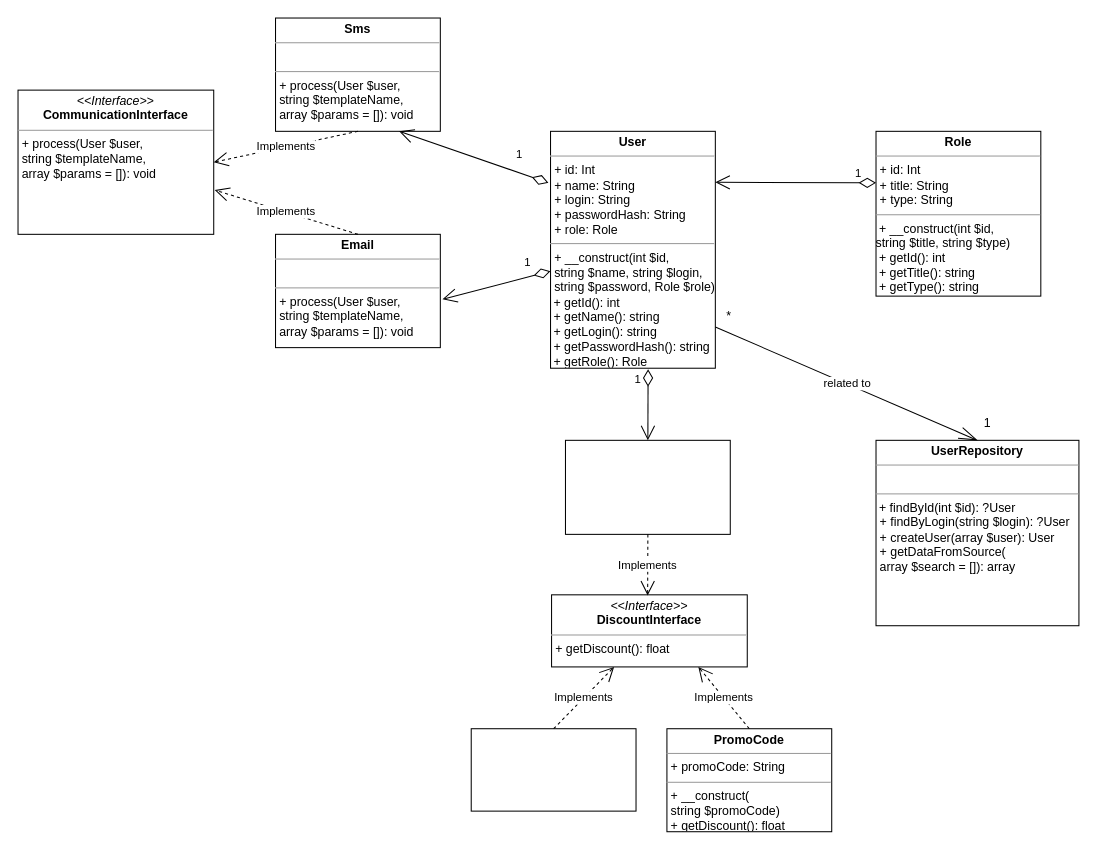
This 1097x850 diagram has some shape labels left out. Each missing label, with the centre of its shape:
"NullObject + getDiscount(): float" belongs at [553,769].
"VipDiscount + user: String + __construct(User $user) + getDiscount(): float" belongs at [647,486].
